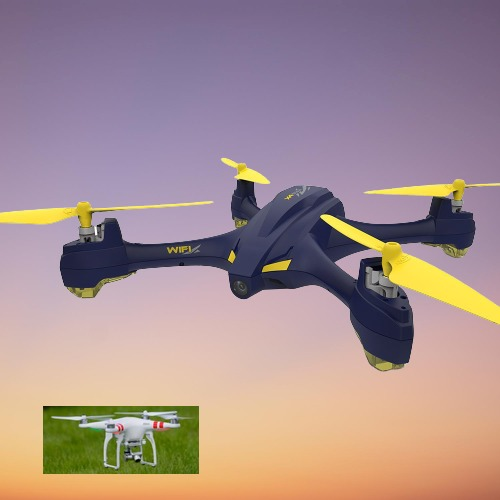drone: (0, 157, 500, 371), (43, 406, 199, 474)
